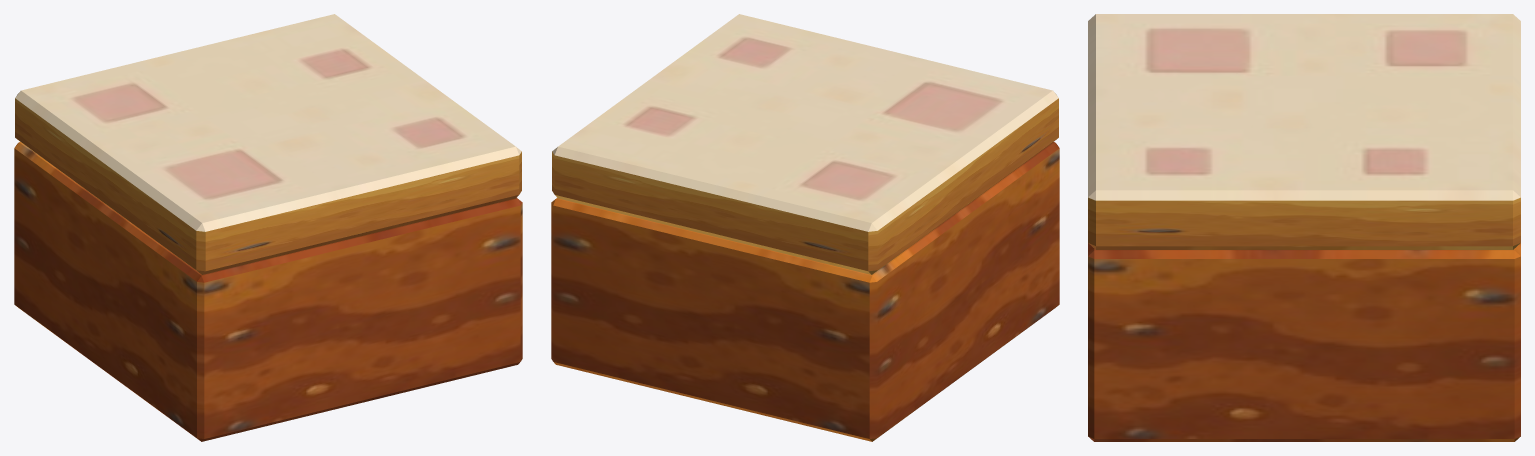
Rendered from road.glb.
3 views of the same model, side by side, from view 1: azimuth 30°, elevation 25°; view 2: azimuth 150°, elevation 25°; view 3: azimuth 270°, elevation 25° (orthographic). The views are drawn at different scales.
Parts seen in each view (by area): view 1: road; view 2: road; view 3: road.
Boxes of the visible parts, x1,y1,x2,y2 form: road: (14,14,522,441); road: (551,14,1059,441); road: (1088,14,1520,441).
Size of the model in its own units: 0.985 by 0.63 by 0.985.
1 material, 1 textured.
